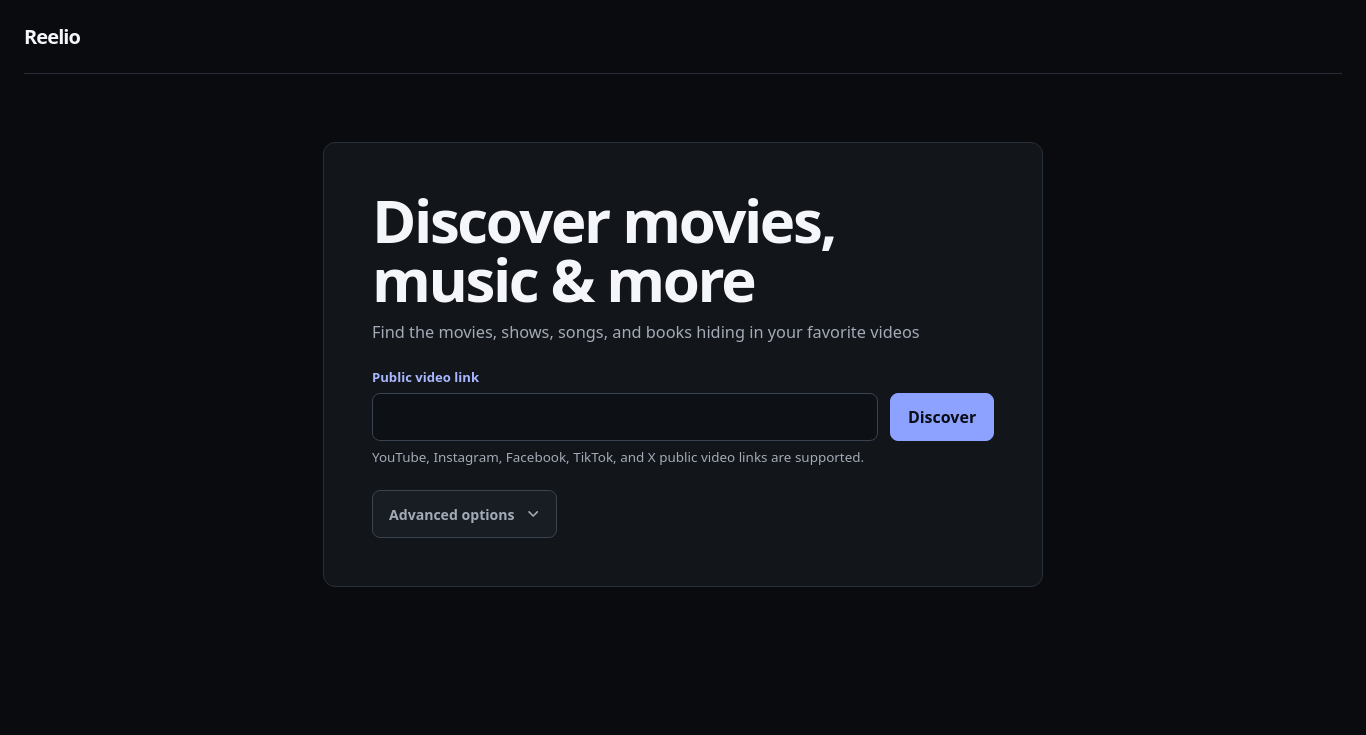
video discovery application › should announce and focus Results with associated level-two category headings when results complete
The width and height of the screenshot is (1366, 735).
Type "https://www.youtube.com/watch?v=dQw4w9WgXcQ" into the field labelled "Public video link". click: (625, 417)
box: [372,393,878,441]
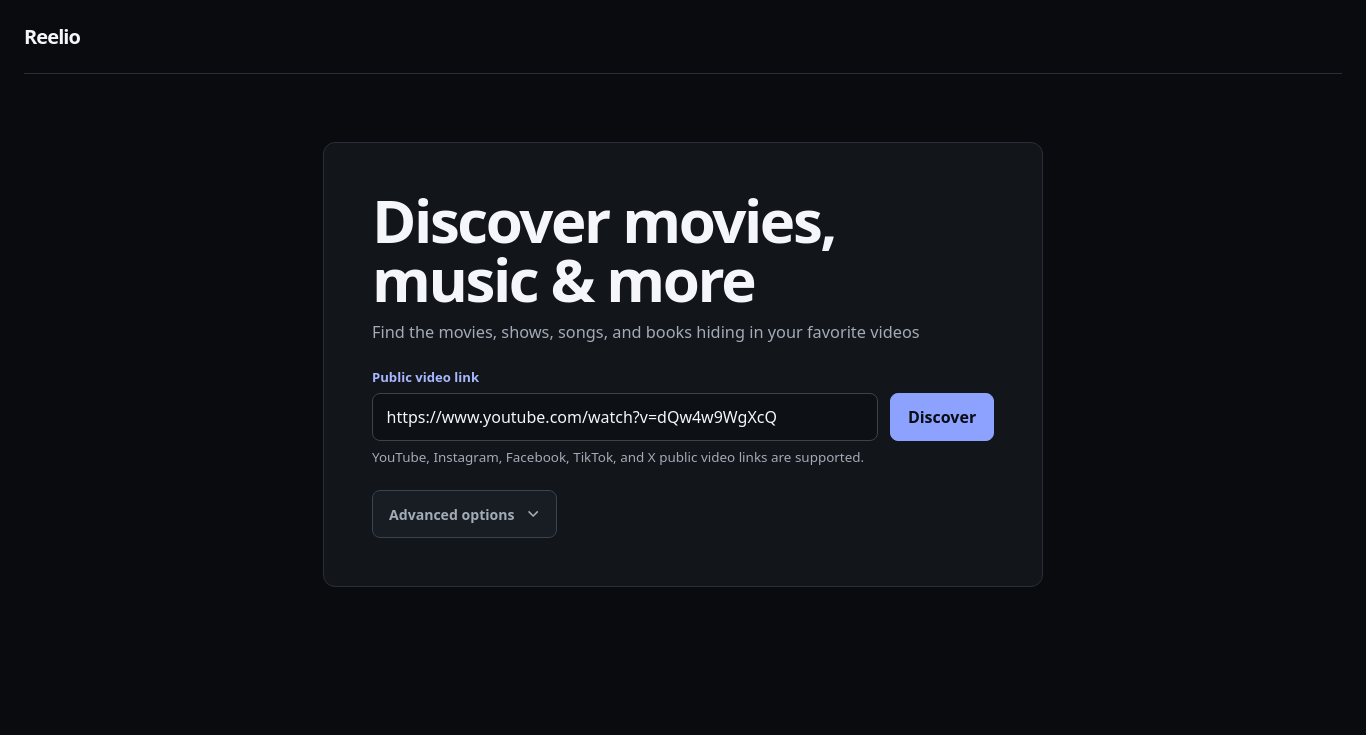
Click the button "Discover". click: (942, 417)
box: [890,393,994,441]
(page scrolled)
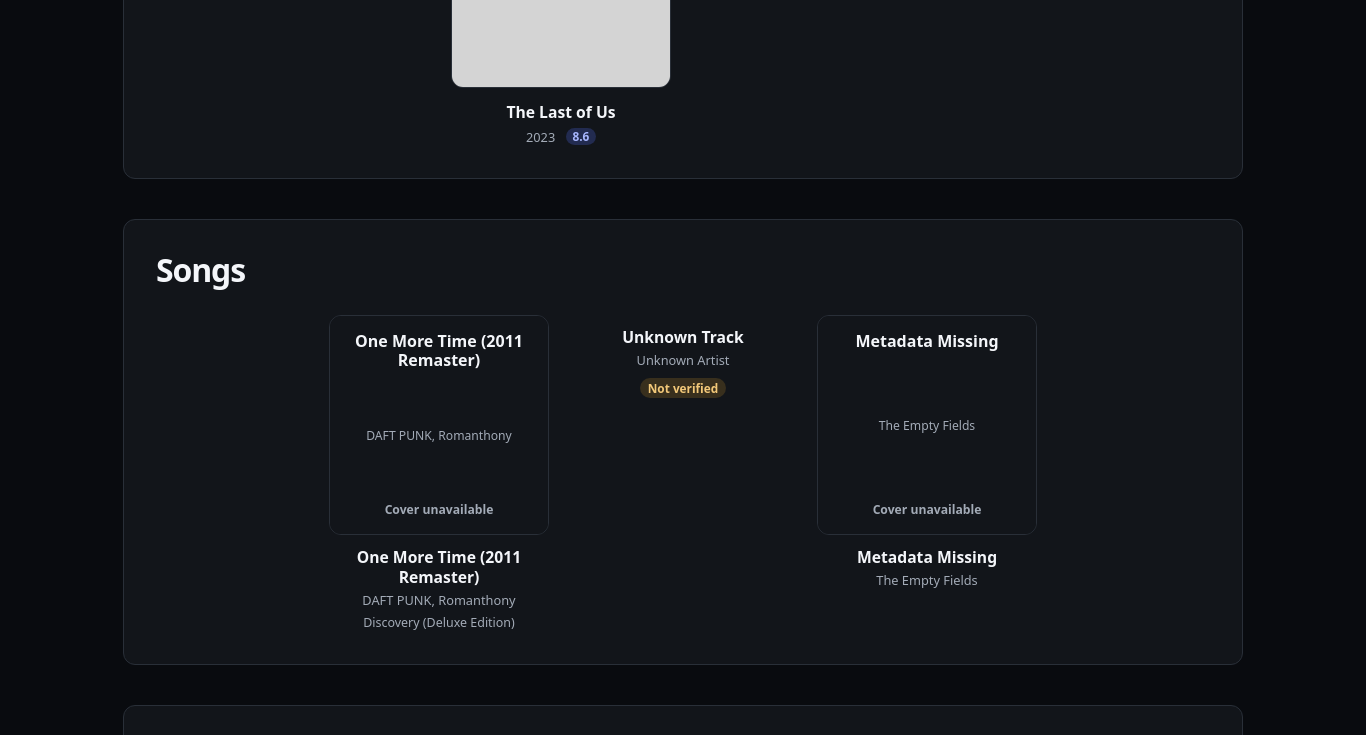
Expected: the list that starts with "One More Time (2011 Remaster)" is shown, [329,315,1037,632]
